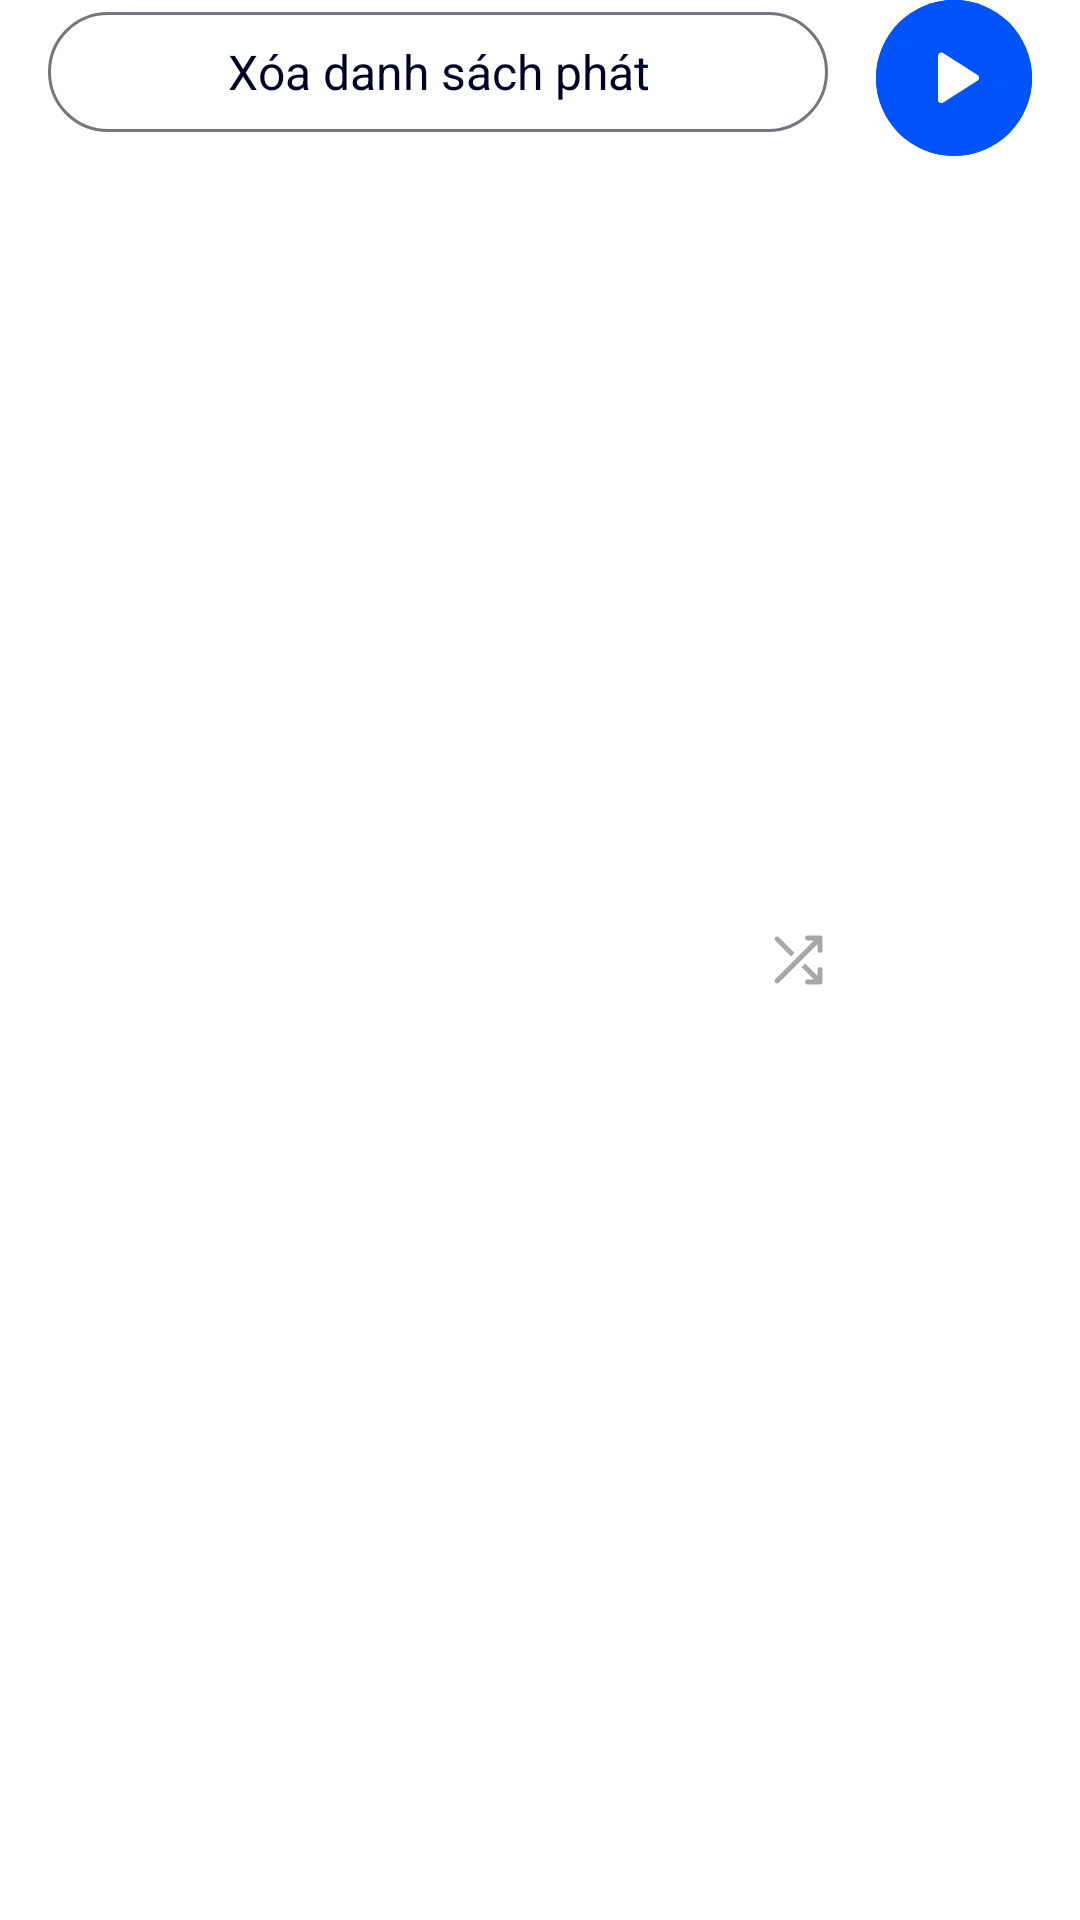

Point at icon controls on the screen. Image size 1080 × 1920, points as point (x, y).
play: point (954, 78)
shuffle on: point (798, 960)
